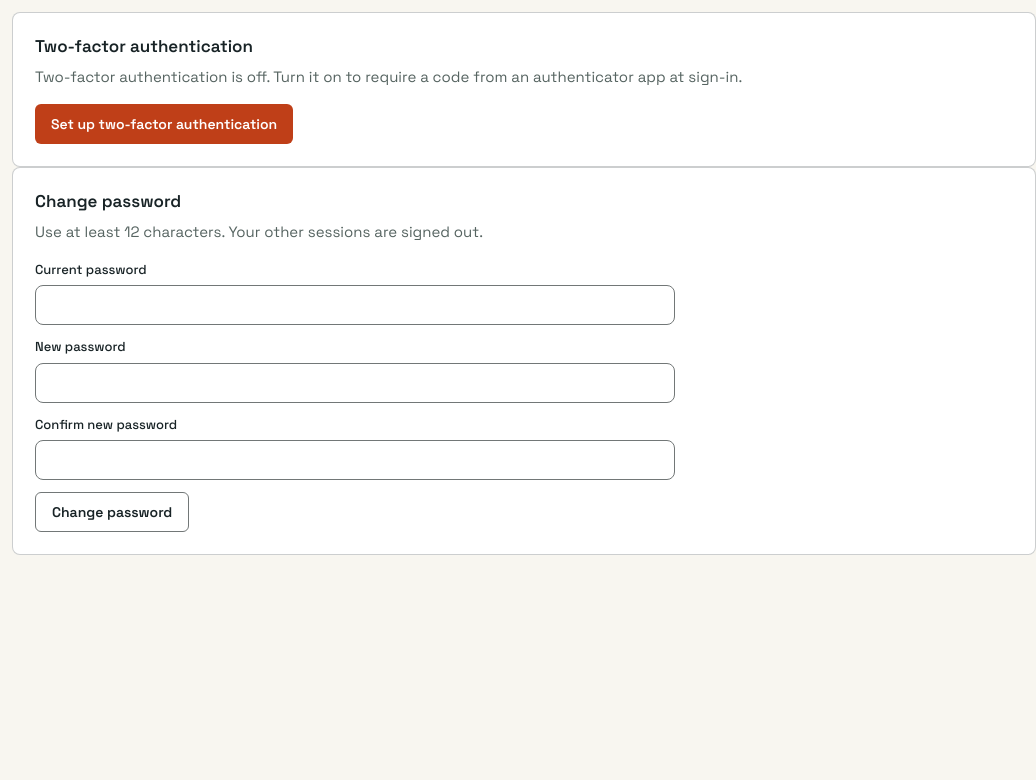
Test: changes the password without sending the confirmation, and shows policy errors
The image size is (1036, 780).
Type "old-password-1" into the password field named "password" at (355, 305), box left=35, top=285, right=675, bottom=325
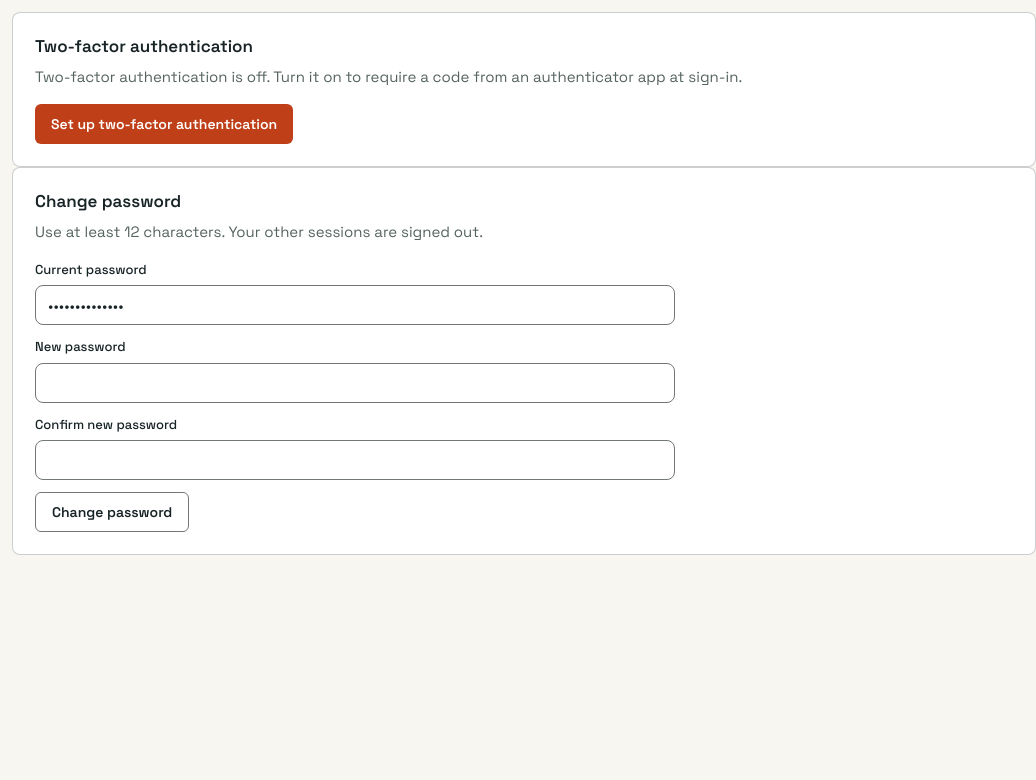
Type "new-password-12" into the password field labelled "New password" at (355, 383), box left=35, top=363, right=675, bottom=403
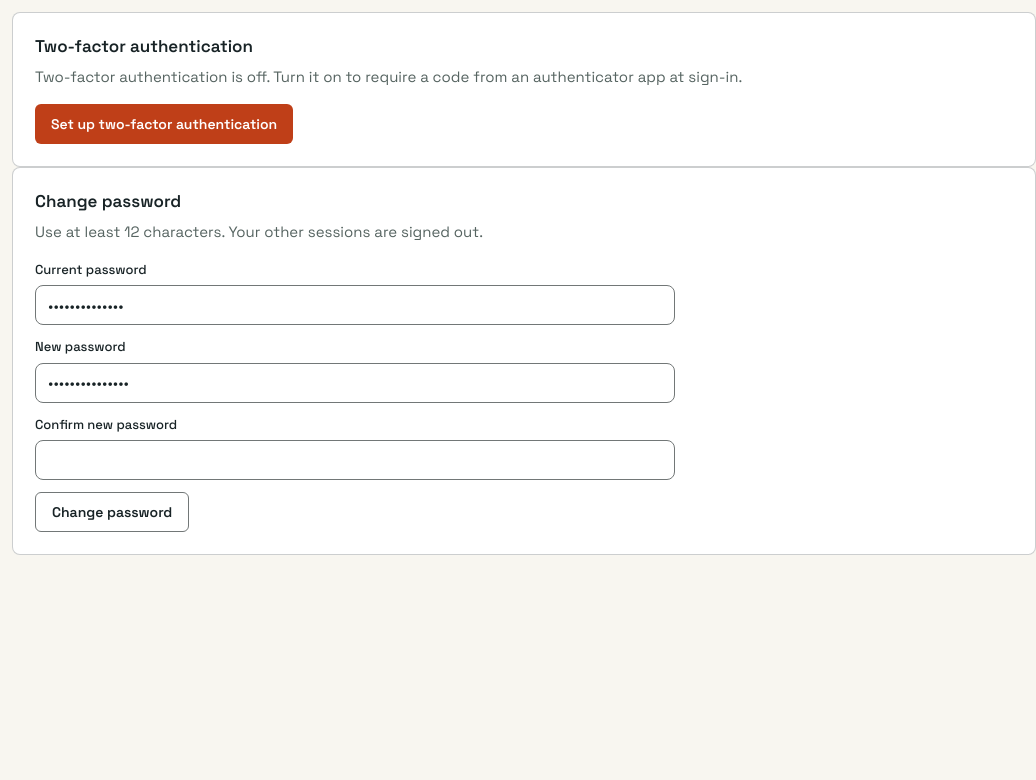
Type "different-password" into the password field labelled "Confirm new password" at (355, 460), box left=35, top=440, right=675, bottom=480
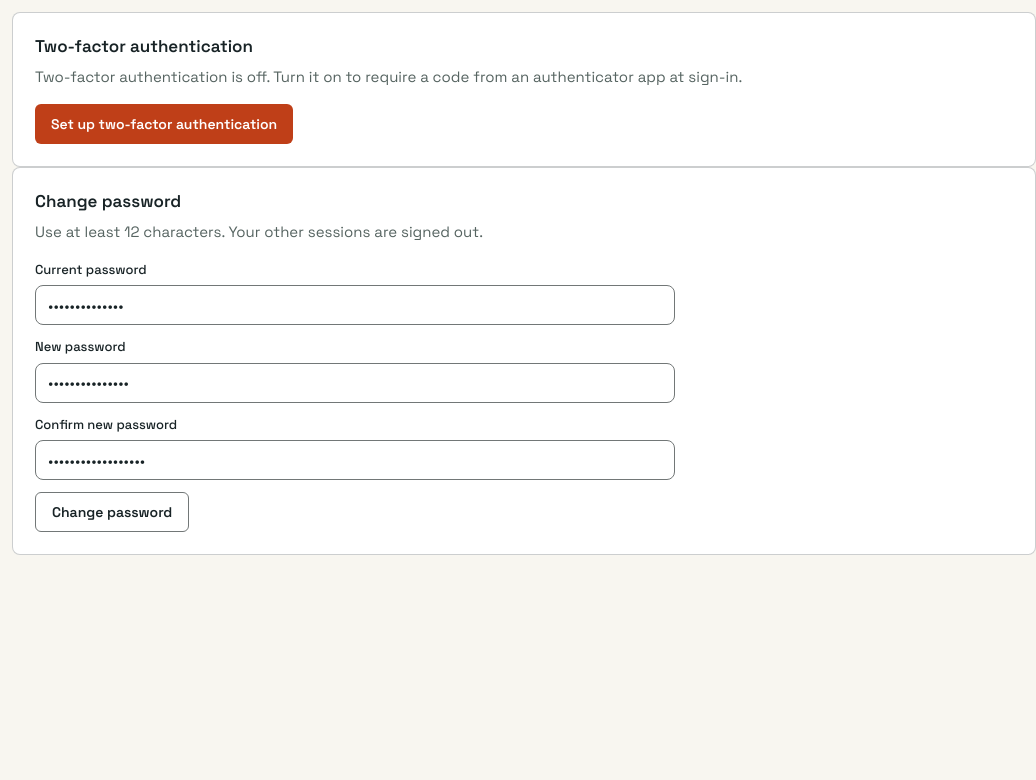
Click the button "Change password" at (112, 512), box left=35, top=492, right=189, bottom=532
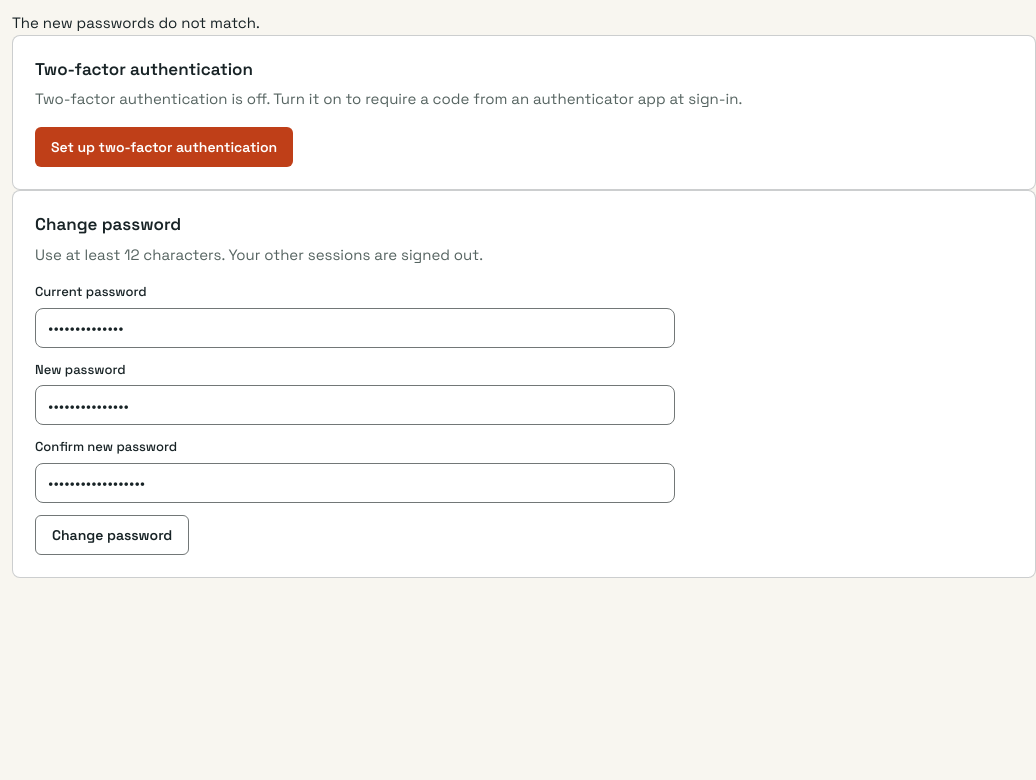
Expected: the text "The new passwords do not match." is shown, left=12, top=13, right=260, bottom=32
Type "new-password-12" into the password field labelled "Confirm new password" at (355, 483), box left=35, top=463, right=675, bottom=503
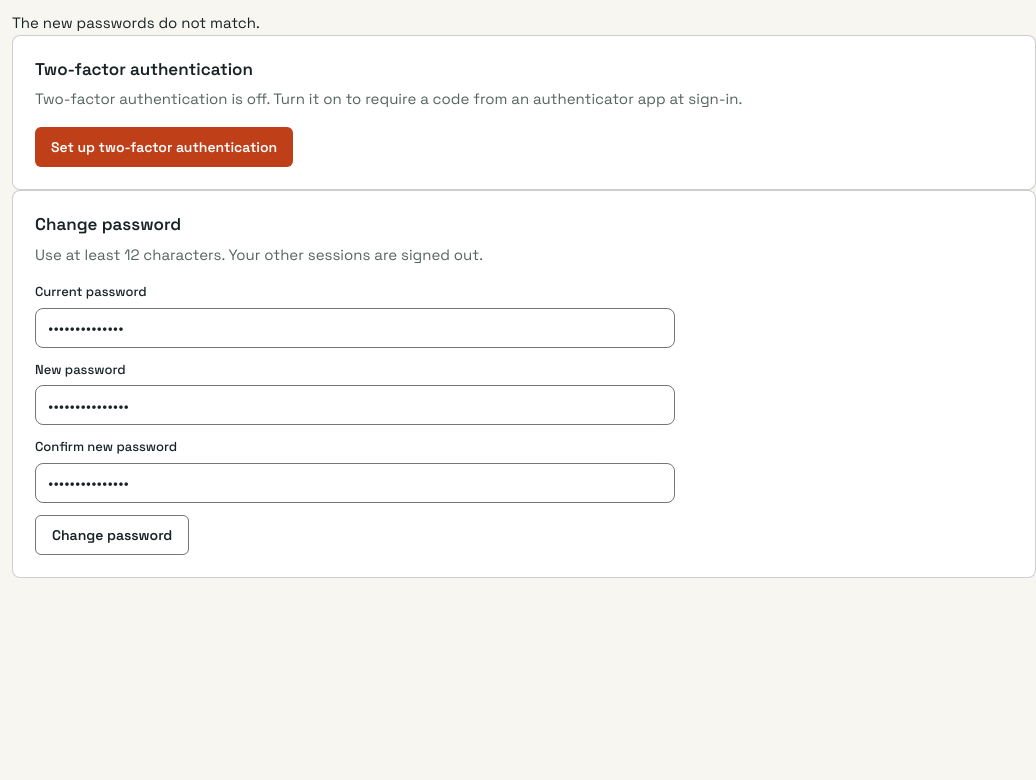
Click the button "Change password" at (112, 535), box left=35, top=515, right=189, bottom=555
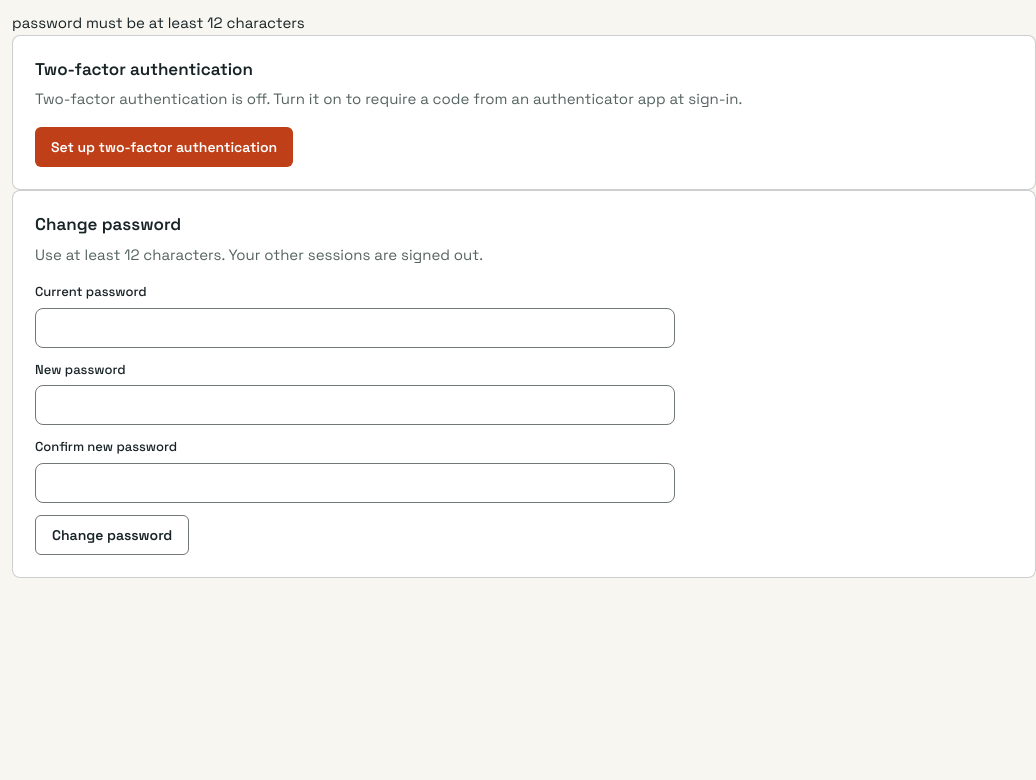
Expected: the text "password must be at least 12 characters" is shown, left=12, top=13, right=305, bottom=32
